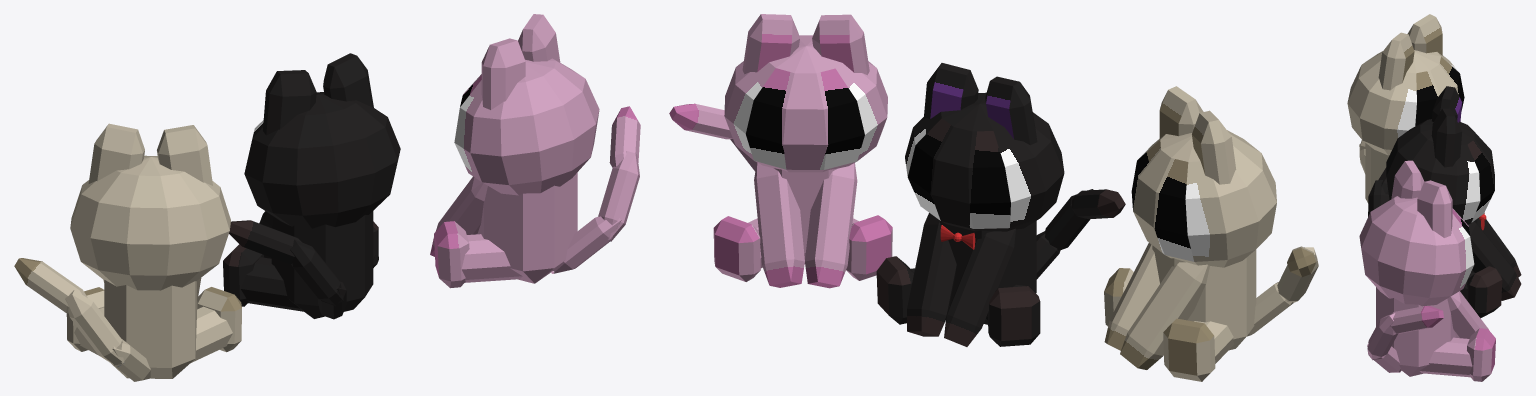
File: happy_three_cats.gltf
3 views of the same model, side by side, from view 1: azimuth 30°, elevation 25°; view 2: azimuth 150°, elevation 25°; view 3: azimuth 270°, elevation 25° (orthographic). The views are drawn at different scales.
Visible parts, largest first — view 1: head (×3), torax (×3), ear2 (×3), tail2 (×3), ear1 (×3), tail3 (×3), left_foot (×3), left_leg (×2), tail1 (×3), right_arm, right_foot, right_leg; view 2: head (×3), right_arm (×3), left_arm (×3), torax (×3), left_foot (×3), ear2 (×3), ear1 (×3), right_foot (×3), tail3 (×3), tail2 (×2), tail1 (×2), left_leg; view 3: head (×3), ear1 (×3), torax (×2), left_arm (×2), ear2 (×3), right_foot (×2), right_leg, tail2 (×2), tail3, right_arm, tail1.
Boxes of the visible parts, bbox=[...] form: head (×3): bbox=[70, 58, 599, 290]; torax (×3): bbox=[104, 172, 577, 378]; ear2 (×3): bbox=[88, 38, 525, 183]; tail2 (×3): bbox=[65, 151, 639, 366]; ear1 (×3): bbox=[157, 14, 560, 185]; tail3 (×3): bbox=[14, 106, 640, 313]; left_foot (×3): bbox=[66, 221, 469, 351]; left_leg (×2): bbox=[240, 234, 522, 311]; tail1 (×3): bbox=[111, 216, 621, 381]; right_arm: bbox=[430, 176, 487, 256]; right_foot: bbox=[197, 287, 241, 352]; right_leg: bbox=[190, 306, 232, 363]; head (×3): bbox=[724, 35, 1276, 267]; right_arm (×3): bbox=[805, 163, 1209, 369]; left_arm (×3): bbox=[754, 162, 1159, 350]; torax (×3): bbox=[774, 168, 1256, 350]; left_foot (×3): bbox=[846, 215, 1215, 381]; ear2 (×3): bbox=[812, 14, 1236, 184]; ear1 (×3): bbox=[742, 14, 1203, 138]; right_foot (×3): bbox=[713, 216, 1133, 326]; tail3 (×3): bbox=[669, 103, 1316, 277]; tail2 (×2): bbox=[1045, 189, 1318, 302]; tail1 (×2): bbox=[1036, 231, 1293, 336]; left_leg: bbox=[1194, 321, 1234, 363]; head (×3): bbox=[1347, 50, 1494, 306]; ear1 (×3): bbox=[1378, 32, 1461, 237]; torax (×2): bbox=[1365, 143, 1456, 376]; left_arm (×2): bbox=[1447, 222, 1521, 338]; ear2 (×3): bbox=[1391, 14, 1462, 198]; right_foot (×2): bbox=[1467, 266, 1502, 381]; right_leg: bbox=[1420, 337, 1472, 377]; tail2 (×2): bbox=[1367, 180, 1397, 360]; tail3: bbox=[1390, 306, 1443, 333]; right_arm: bbox=[1477, 218, 1521, 277]; tail1: bbox=[1367, 343, 1401, 372].
Bounding box in the file's own units: 1.97 × 0.7229 × 0.5951.
4 materials, 4 textured.
